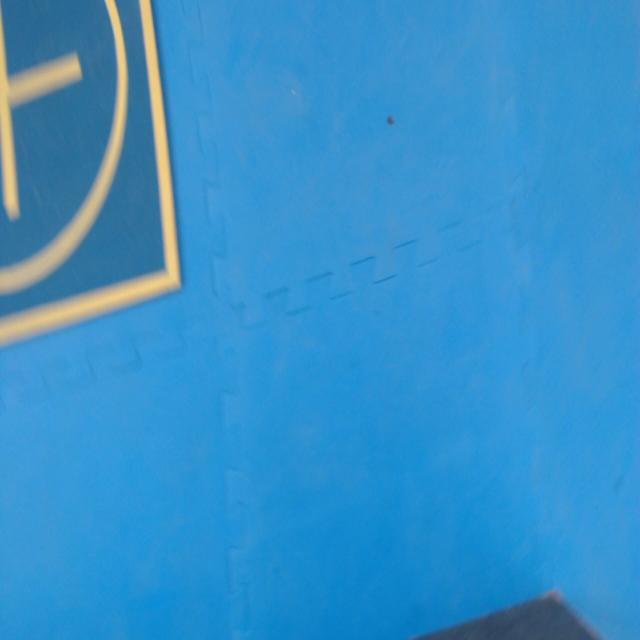base_pouso: (0, 1, 184, 343)
